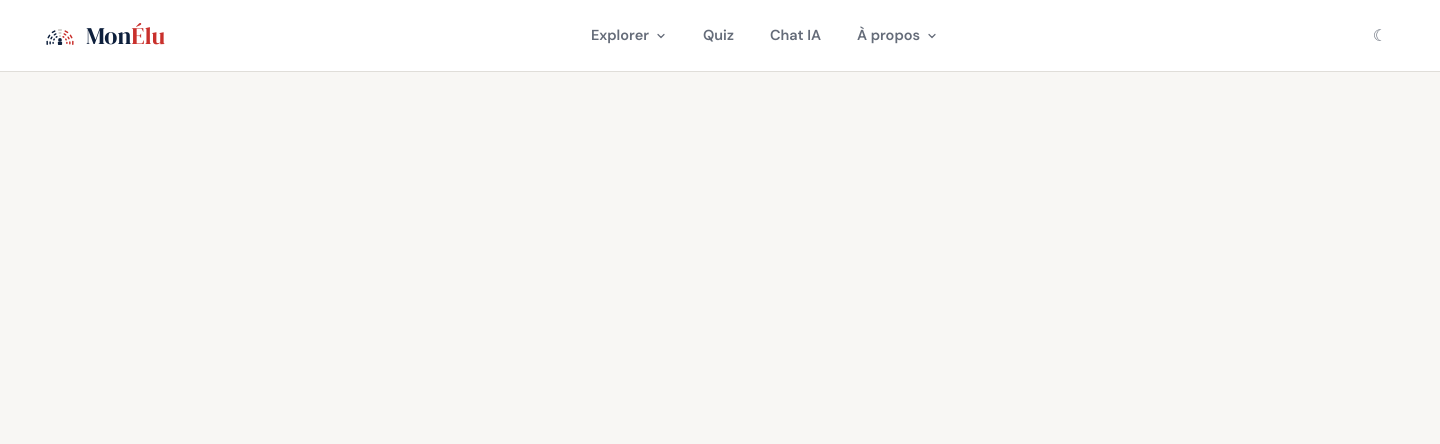
Test case: Nav › only keeps one menu open at a time
Click the button "Explorer" at (629, 36), box [591, 25, 667, 46]
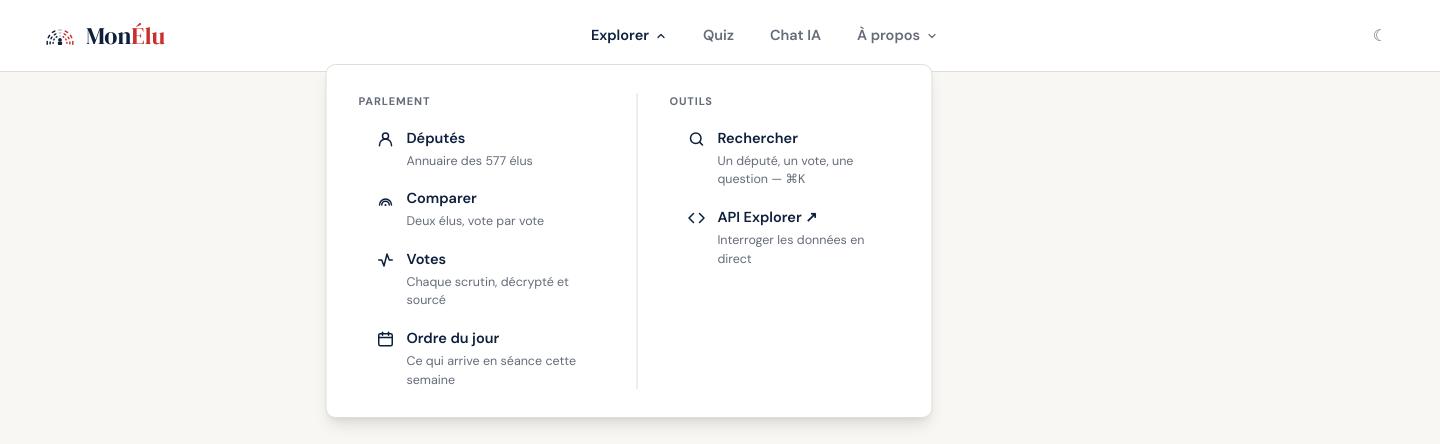
Now the button "Explorer" is expanded, box [591, 25, 667, 46]
Click the button "À propos" at (898, 36), box [857, 25, 938, 46]
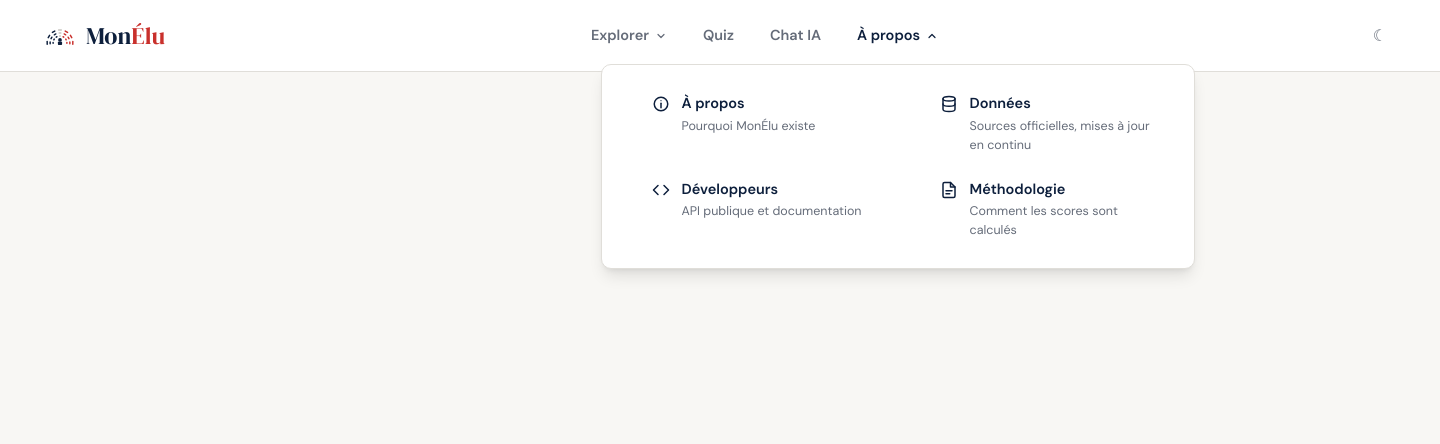
Now the button "À propos" is expanded, box [857, 25, 938, 46]
Now the button "Explorer" is collapsed, box [591, 25, 667, 46]
